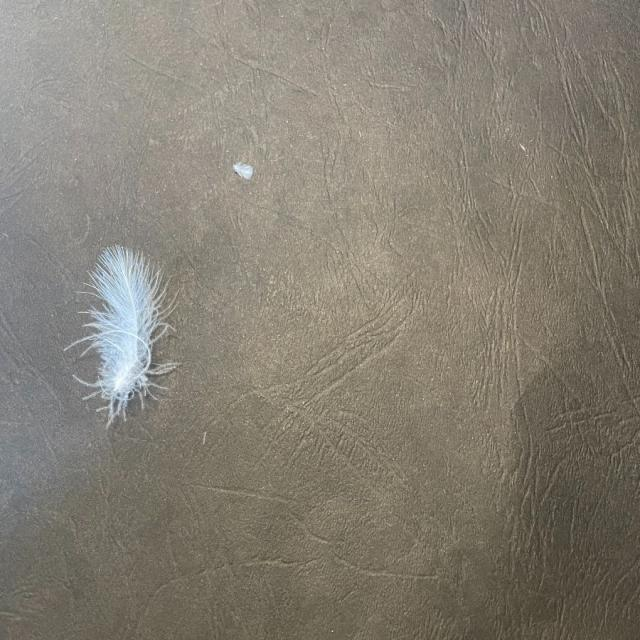feather: (60, 243, 183, 428), (232, 159, 253, 179)
